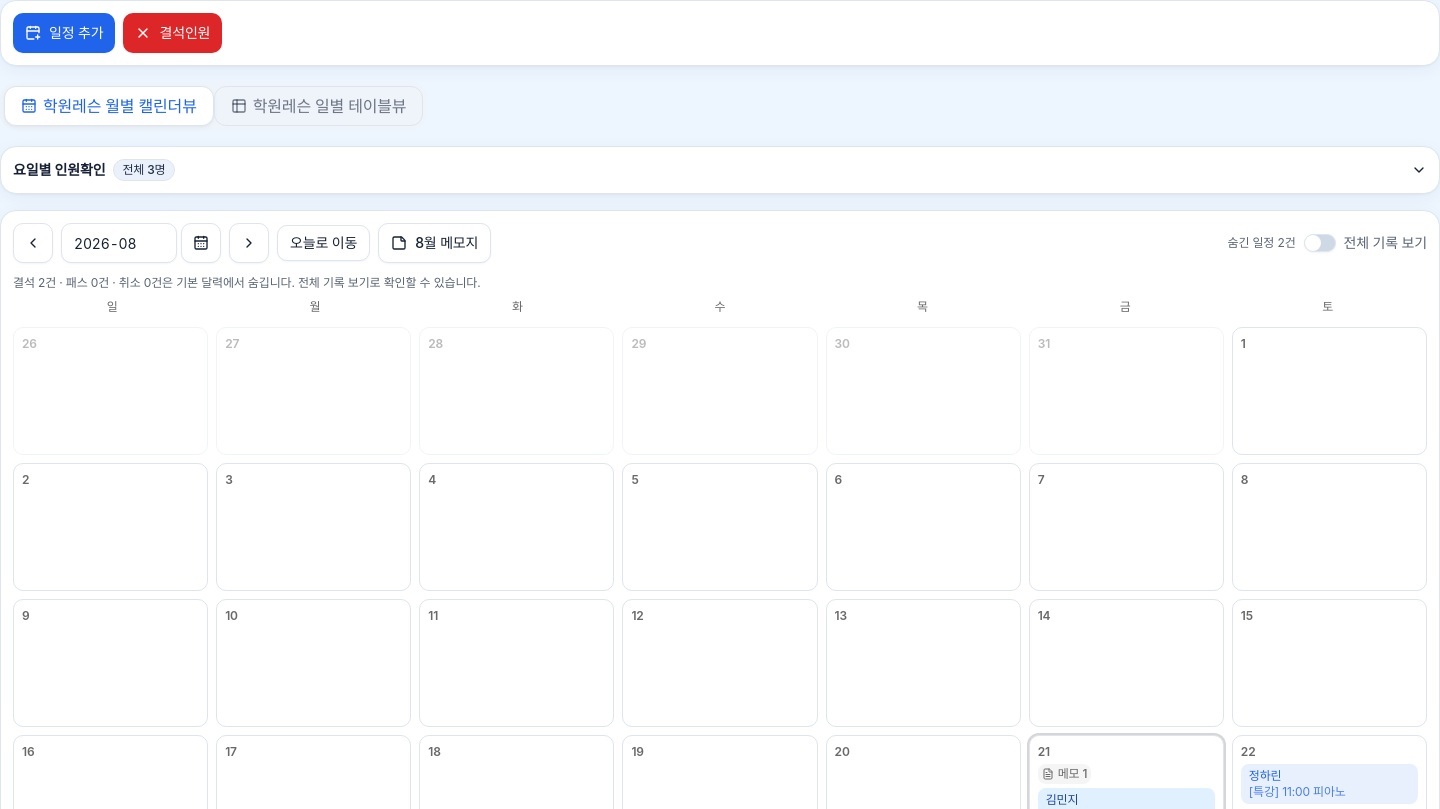
it: 학원 레슨표 결석인원과 결석 사유서 › 월을 옮기면 그 달의 결석으로 바뀌고 결석이 없는 달은 빈 상태를 보여 준다
Click the button "결석인원" at (173, 33), box [124,13,222,53]
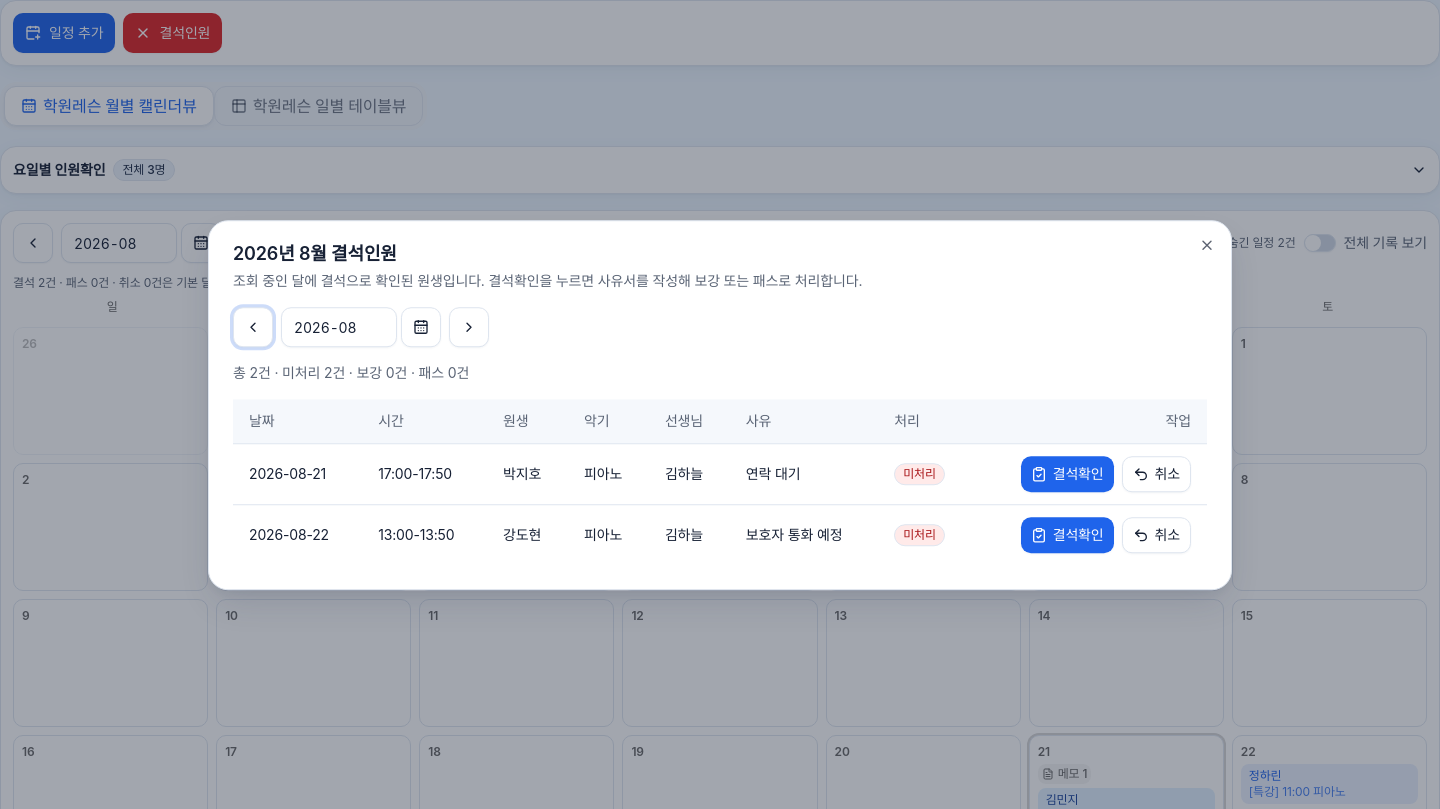
Click the button named "결석인원 다음 달" at (469, 327), box [449,307,489,347]
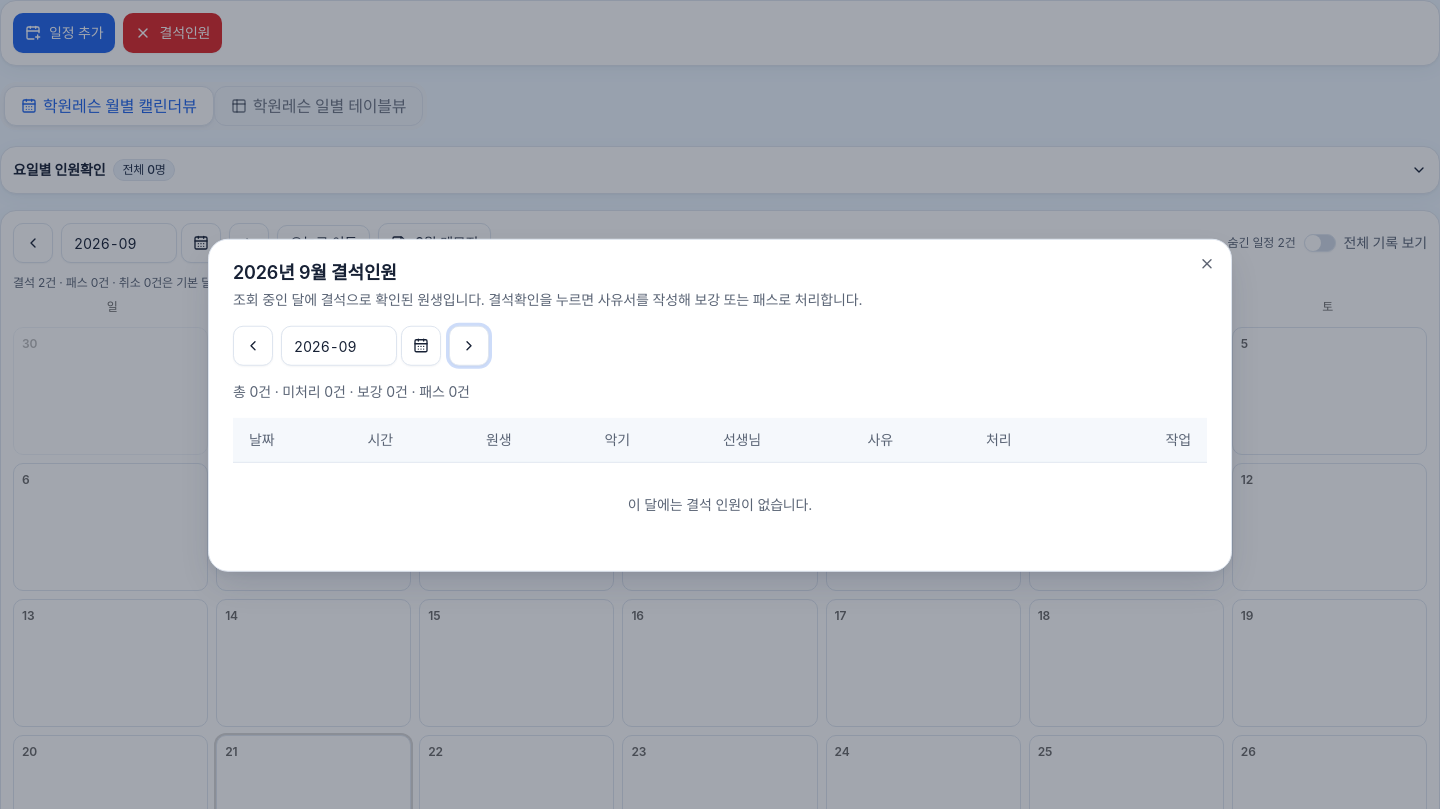
expect the dialog "2026년 9월 결석인원" shows "이 달에는 결석 인원이 없습니다.": met, box [628,495,812,512]
expect the text "박지호" is gone: met
Click the button named "결석인원 이전 달" at (253, 346), box [233,326,273,366]
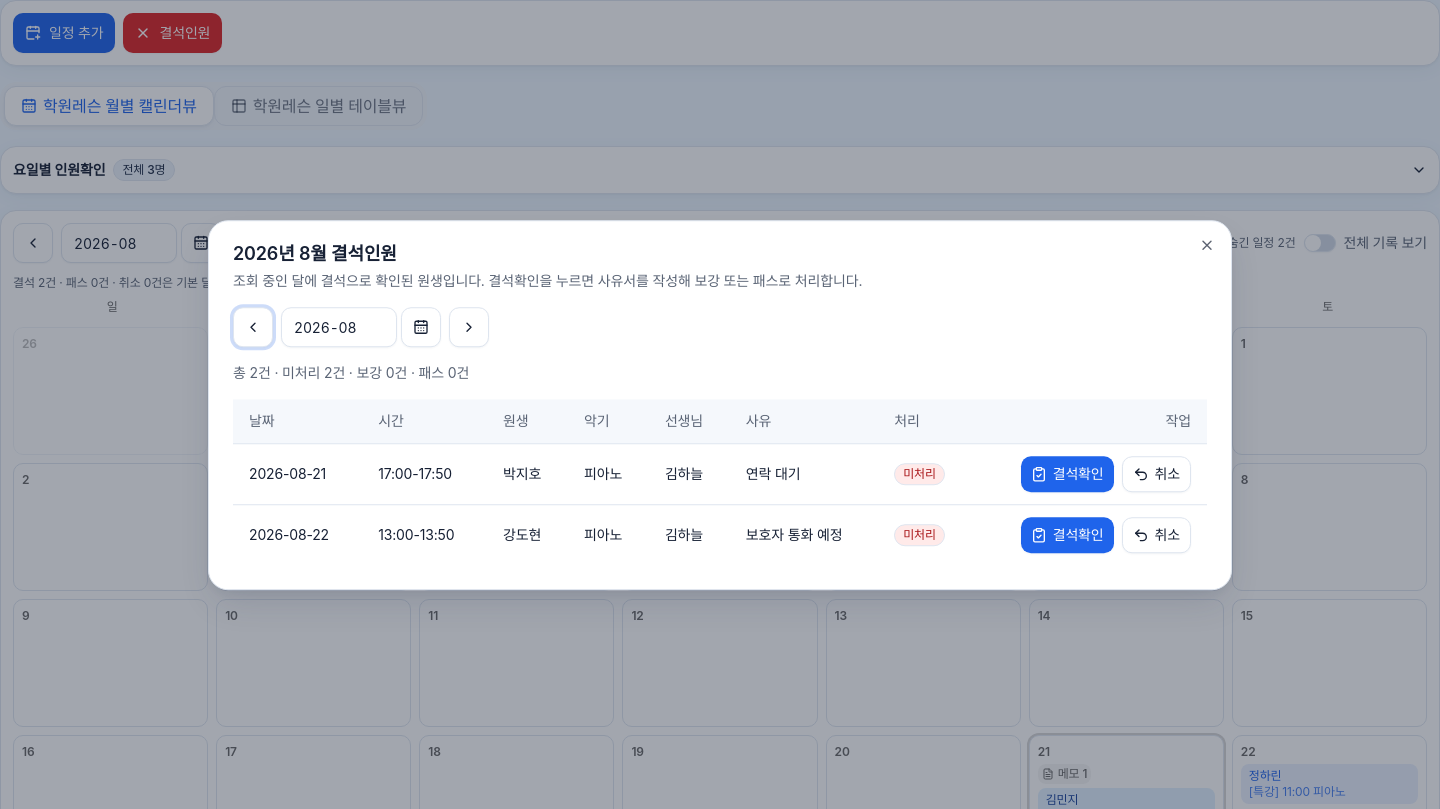
expect the dialog "2026년 8월 결석인원" shows "박지호": met, box [503,465,541,482]
